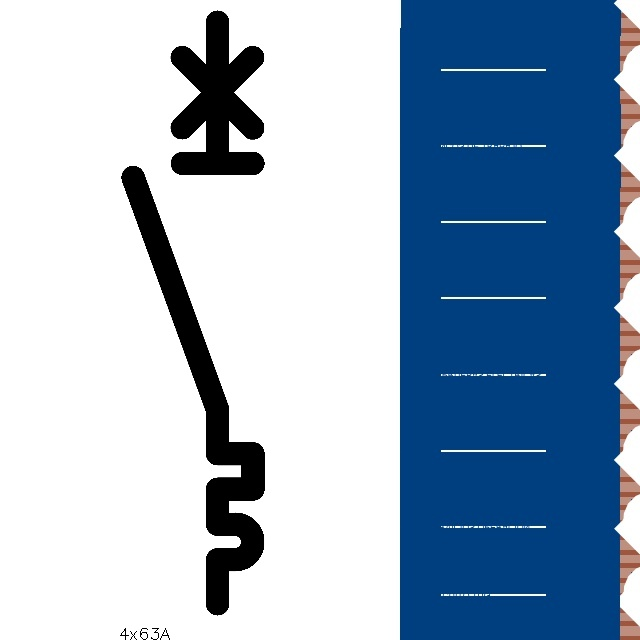interruptor_termomagnetico: (118, 7, 268, 619)
